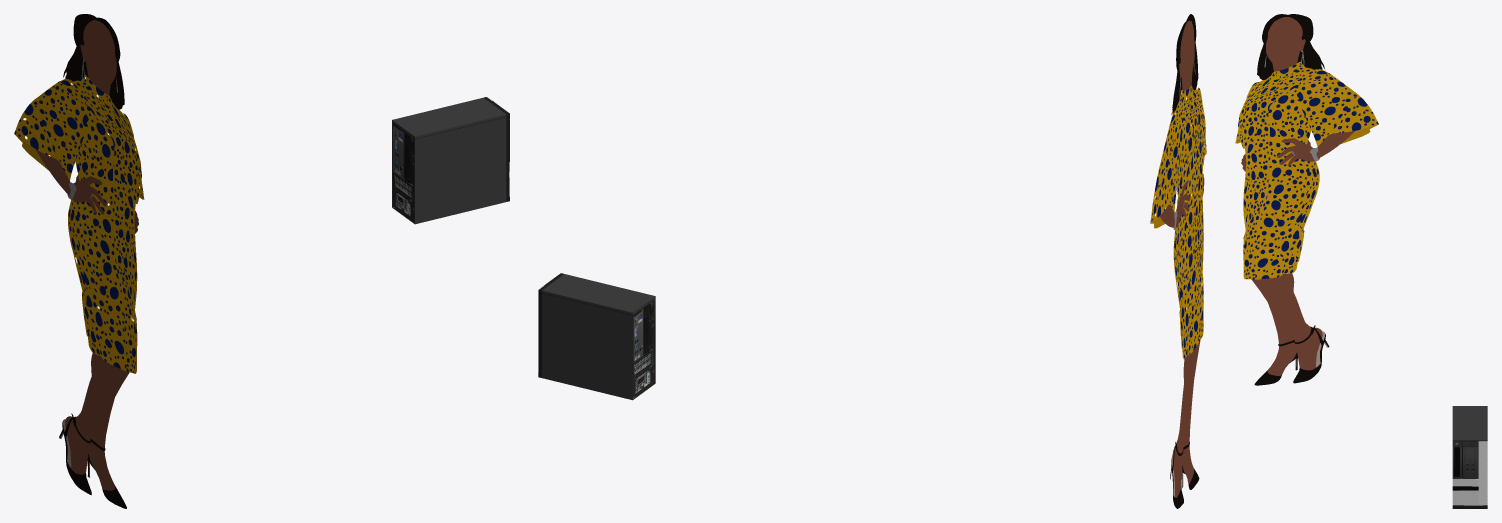
The model's file is Dell.glb.
The picture shows the model from 3 angles, left to right: view 1: azimuth 30°, elevation 25°; view 2: azimuth 150°, elevation 25°; view 3: azimuth 270°, elevation 25°; orthographic projection. The views are drawn at different scales.
Parts seen in each view (by area): view 1: Sumele, Dell PC; view 2: Sumele, Dell PC; view 3: Sumele, Dell PC.
Boxes of the visible parts, x1,y1,x2,y2 form: Sumele: (14,14,144,508); Dell PC: (392,97,509,224); Sumele: (1150,14,1206,508); Dell PC: (538,273,655,400); Sumele: (1235,14,1378,385); Dell PC: (1452,406,1487,508).
Size of the model in its own units: 1.95 by 1.65 by 1.02.
Materials: 13 (3 with a texture image).
